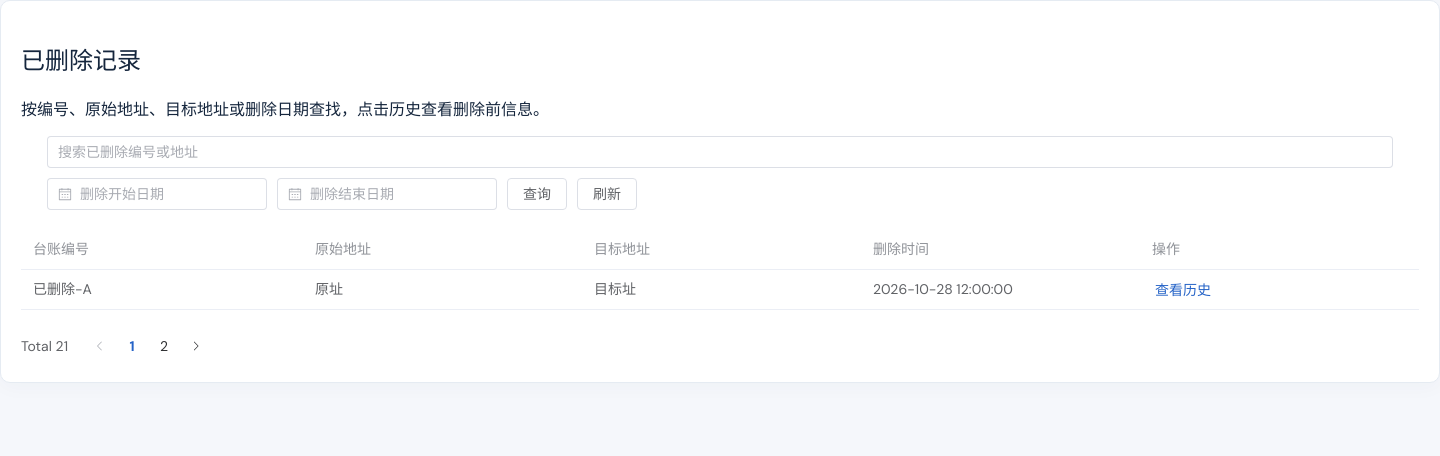
Test: 逆序日期直接提示且不请求服务端
The image size is (1440, 456).
Click the button "查询" at (537,194), box [507,178,567,210]
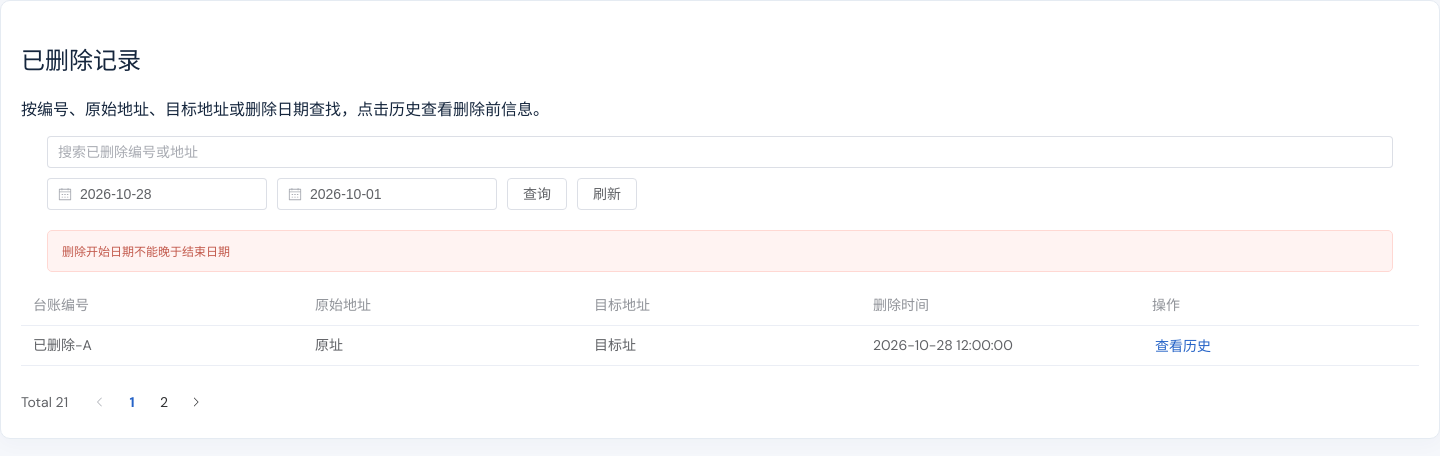
Result: the text "删除开始日期不能晚于结束日期" is shown at [47,230,1393,272]
